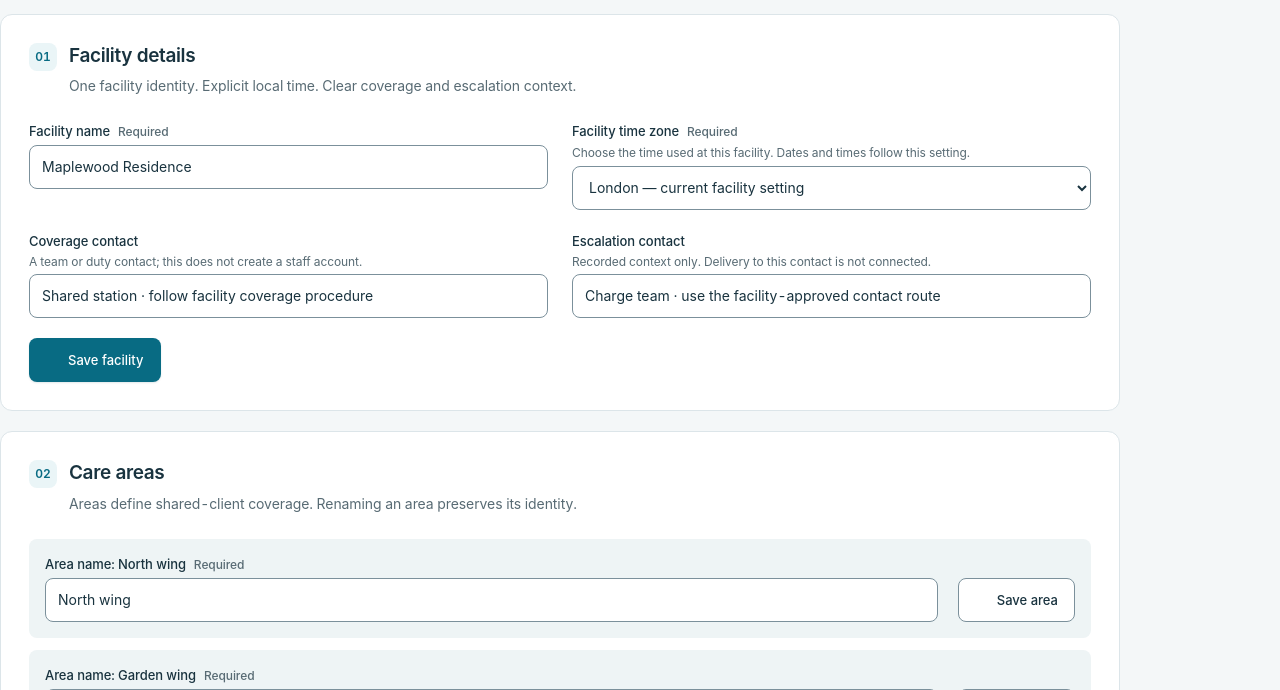
Scenario: workspace administration › preserves a facility's existing zone outside the suggested US choices
(page scrolled)
expect the dropdown labelled "Facility time zone" shows "London — current facility setting": met, box x1=572 y1=166 x2=1091 y2=210
Click the button "Save facility": (95, 360) x1=29 y1=338 x2=160 y2=382
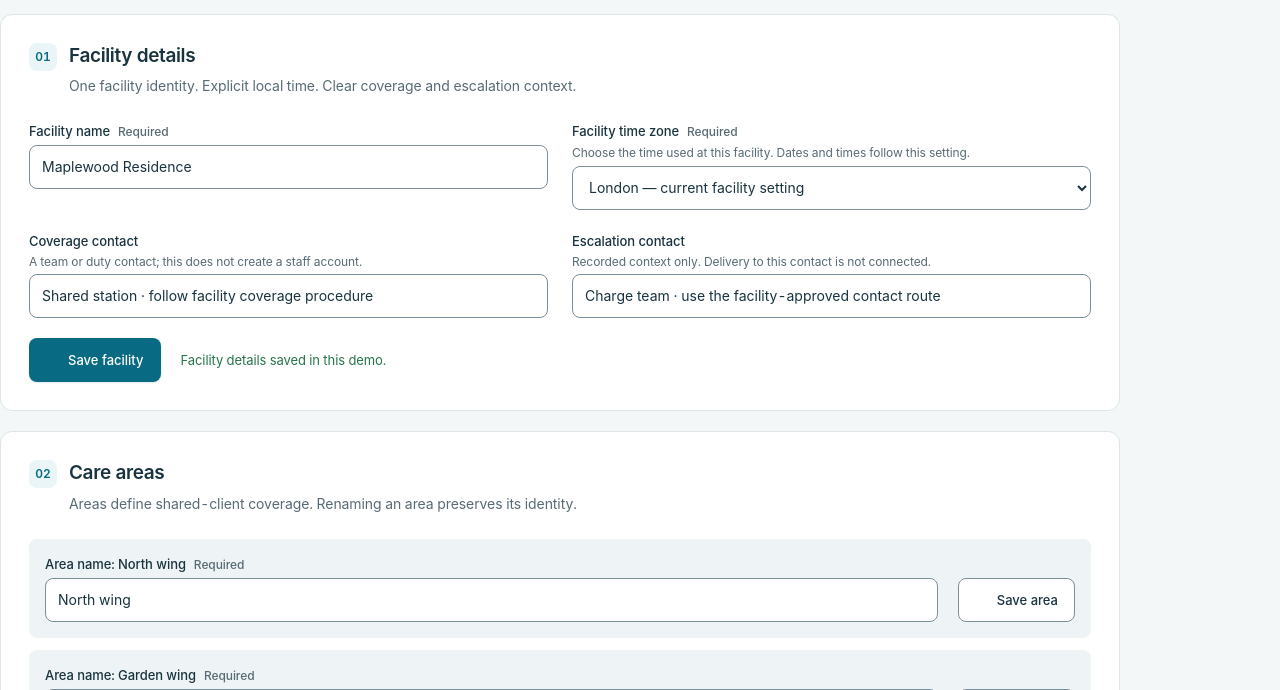
expect the text "Facility details saved in this demo." is shown: met, box x1=180 y1=350 x2=386 y2=371
